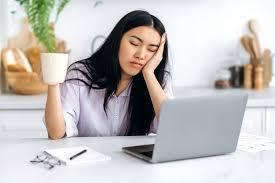Drowsy: (98, 4, 170, 90)
